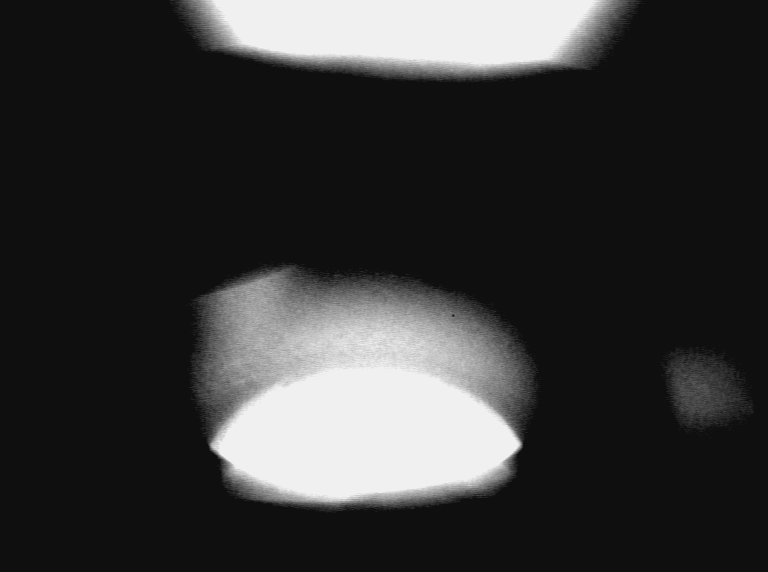defect: (185, 260, 296, 439)
